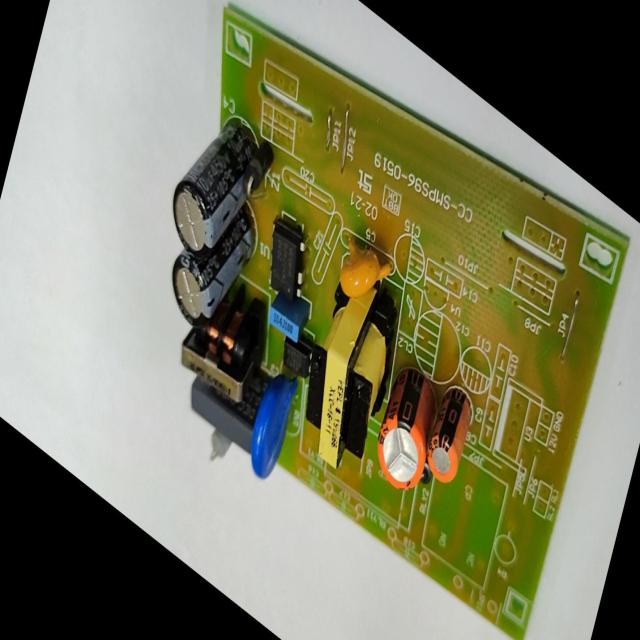Cap1: (366, 345, 448, 510)
Cap2: (419, 372, 479, 498)
Cap3: (161, 167, 263, 361)
Cap4: (161, 76, 271, 290)
MOSFET: (256, 202, 324, 322)
Mov: (241, 349, 307, 496)
Resistor: (203, 389, 246, 476)
Transformer: (285, 252, 409, 502), (163, 246, 277, 432)
